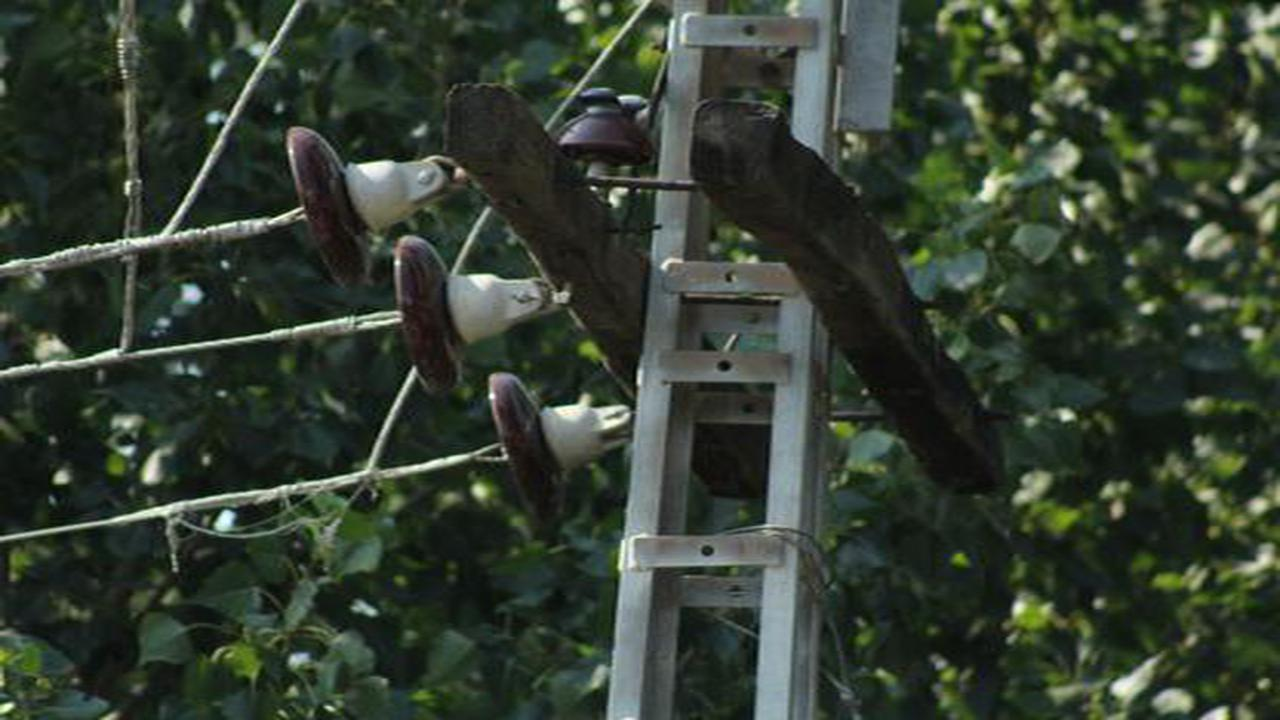insulator_disc: (471, 362, 626, 548), (280, 113, 403, 296), (380, 220, 484, 401)
insulator_pin: (551, 77, 662, 176)
